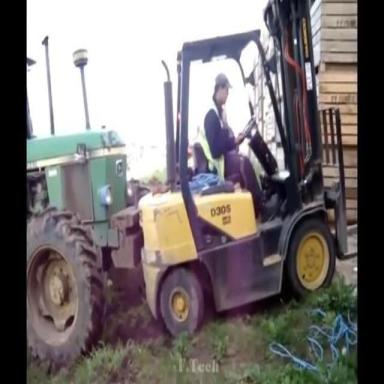forklift: (139, 1, 358, 343)
